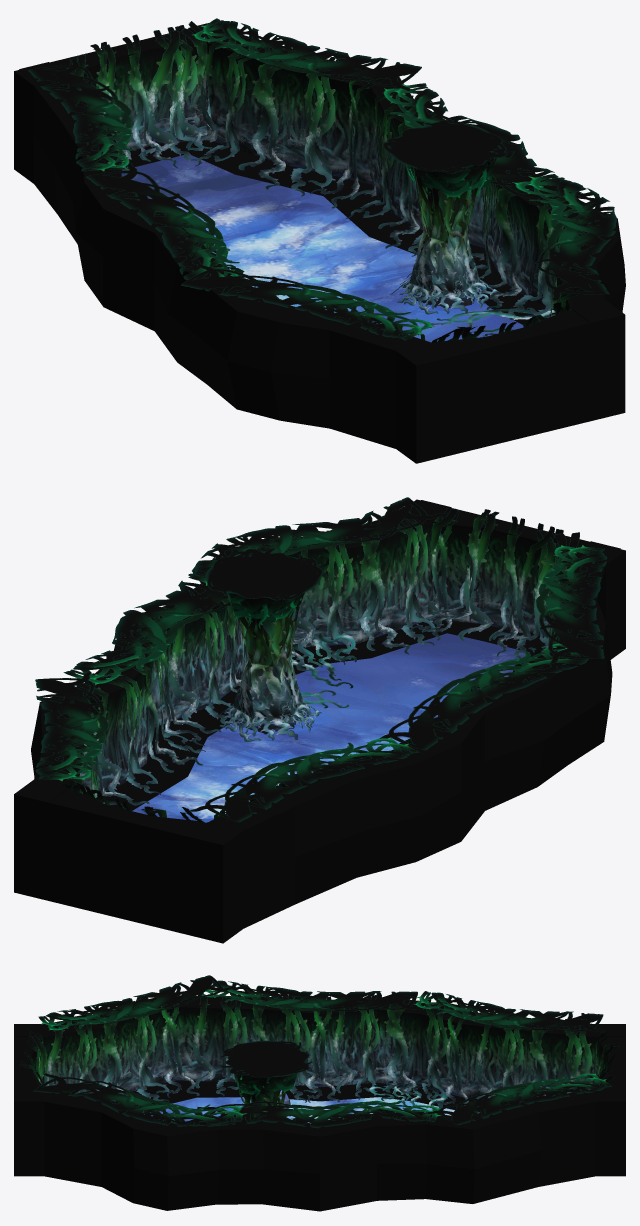
File: Dungeon_012_Road_002.fbx
3 views of the same model, one above another, from view 1: azimuth 30°, elevation 25°; view 2: azimuth 150°, elevation 25°; view 3: azimuth 270°, elevation 25° (orthographic). The views are drawn at different scales.
Visible parts, largest first — view 1: Dan1, Dungeon_021_Tsuta_002, un_021_Door_002 (×2), Dan2, Dungeon_021_Tsuta_001, un_021_Door_002_Object1 (×2), Dungeon_021_Object_011, Dan1_shadow, Dungeon_021_Object_010, Dungeon_021_Tsuta_003; view 2: Dan1, Dungeon_021_Tsuta_002, un_021_Door_002 (×2), Dan2, Dungeon_021_Tsuta_001, un_021_Door_002_Object1 (×2), Dungeon_021_Object_011, Dan1_shadow, Dungeon_021_Object_010, Dungeon_021_Tsuta_003, Dun_011_Door_002_shadow; view 3: Dan1, Dungeon_021_Tsuta_002, Dungeon_021_Tsuta_001, Dungeon_021_Object_010, un_021_Door_002 (×2), Dan1_shadow, Dan2, un_021_Door_002_Object1 (×2), Dungeon_021_Tsuta_003, Dungeon_021_Object_011.
Boxes of the visible parts, x1=… form: Dan1: x1=14, y1=20, x2=625, y2=463; Dungeon_021_Tsuta_002: x1=28, y1=18, x2=616, y2=340; un_021_Door_002 (×2): x1=19, y1=23, x2=619, y2=455; Dan2: x1=121, y1=155, x2=523, y2=342; Dungeon_021_Tsuta_001: x1=54, y1=38, x2=591, y2=340; un_021_Door_002_Object1 (×2): x1=67, y1=21, x2=571, y2=343; Dungeon_021_Object_011: x1=390, y1=165, x2=499, y2=314; Dan1_shadow: x1=175, y1=140, x2=555, y2=326; Dungeon_021_Object_010: x1=382, y1=120, x2=506, y2=199; Dungeon_021_Tsuta_003: x1=216, y1=248, x2=554, y2=336; Dan1: x1=14, y1=499, x2=625, y2=943; Dungeon_021_Tsuta_002: x1=35, y1=497, x2=607, y2=822; un_021_Door_002 (×2): x1=19, y1=500, x2=620, y2=934; Dan2: x1=132, y1=633, x2=529, y2=822; Dungeon_021_Tsuta_001: x1=56, y1=506, x2=588, y2=819; un_021_Door_002_Object1 (×2): x1=60, y1=508, x2=579, y2=822; Dungeon_021_Object_011: x1=220, y1=598, x2=321, y2=741; Dan1_shadow: x1=101, y1=619, x2=545, y2=810; Dungeon_021_Object_010: x1=205, y1=548, x2=322, y2=628; Dungeon_021_Tsuta_003: x1=286, y1=633, x2=357, y2=708; Dun_011_Door_002_shadow: x1=447, y1=623, x2=540, y2=652; Dan1: x1=14, y1=995, x2=625, y2=1211; Dungeon_021_Tsuta_002: x1=33, y1=975, x2=611, y2=1128; Dungeon_021_Tsuta_001: x1=44, y1=994, x2=592, y2=1123; Dungeon_021_Object_010: x1=220, y1=1040, x2=312, y2=1098; un_021_Door_002 (×2): x1=14, y1=1025, x2=625, y2=1099; Dan1_shadow: x1=115, y1=1080, x2=509, y2=1112; Dan2: x1=142, y1=1097, x2=479, y2=1123; un_021_Door_002_Object1 (×2): x1=19, y1=1028, x2=619, y2=1085; Dungeon_021_Tsuta_003: x1=366, y1=1081, x2=447, y2=1110; Dungeon_021_Object_011: x1=234, y1=1074, x2=285, y2=1116.
Size of what is drawn, in the model's own units: 9.14 by 3.03 by 15.
